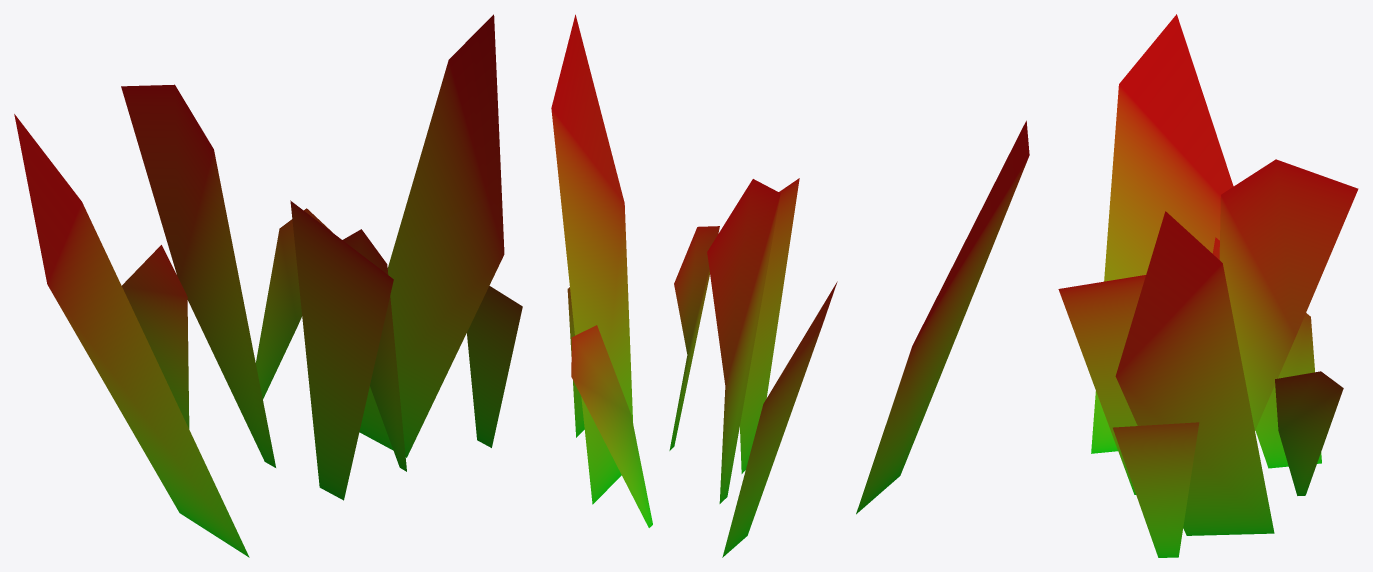
File: White Everlasting_LOD4_Var12_ucvobbbia.fbx
3 views of the same model, side by side, from view 1: azimuth 30°, elevation 25°; view 2: azimuth 150°, elevation 25°; view 3: azimuth 270°, elevation 25° (orthographic). The views are drawn at different scales.
Visible parts, largest first — view 1: _3c59_Var12_LOD4; view 2: _3c59_Var12_LOD4; view 3: _3c59_Var12_LOD4.
Part boxes in pixels (<box>): _3c59_Var12_LOD4: <box>14,14,522,557</box>; _3c59_Var12_LOD4: <box>551,14,1029,557</box>; _3c59_Var12_LOD4: <box>1058,14,1358,557</box>.
Size of the model in its own units: 13.04 by 11.88 by 8.8.
